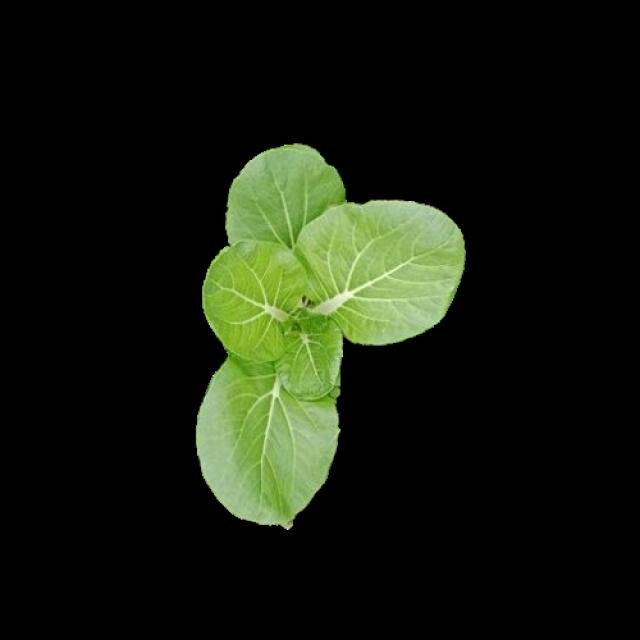healthy: (196, 142, 463, 522)
not-mature: (198, 145, 466, 524)
